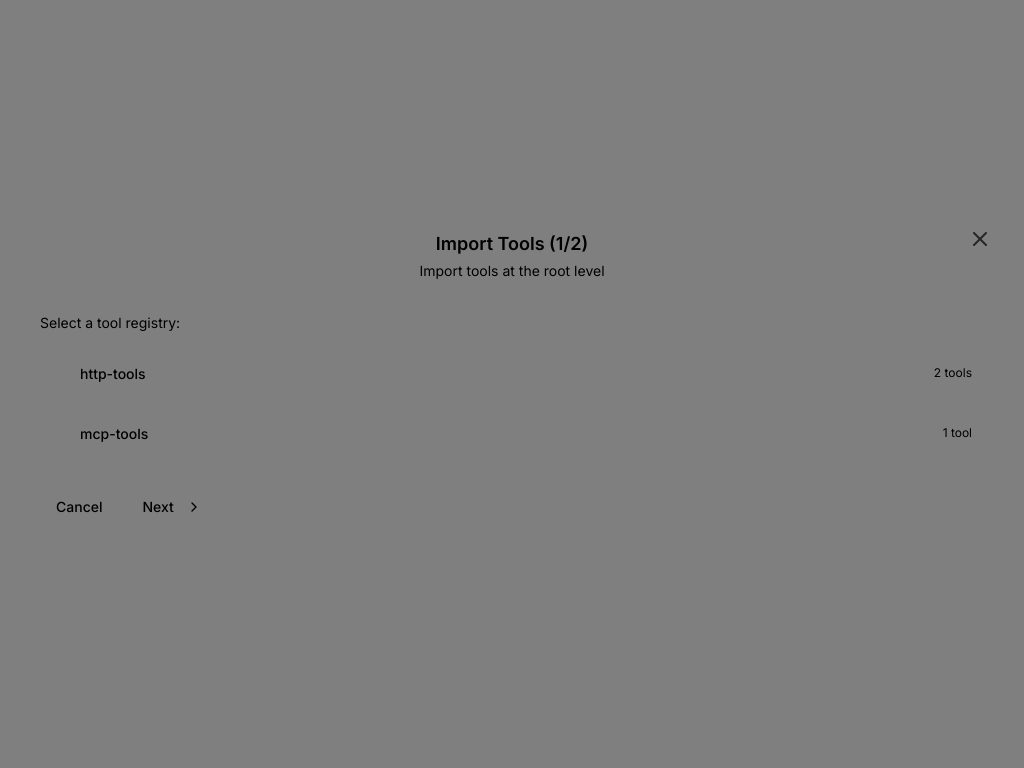
Scenario: ImportToolDialog › should show error on import failure
The width and height of the screenshot is (1024, 768).
Navigate to step 2
Step 1. Click the text "http-tools" → [113, 374], box [80,365,146,382]
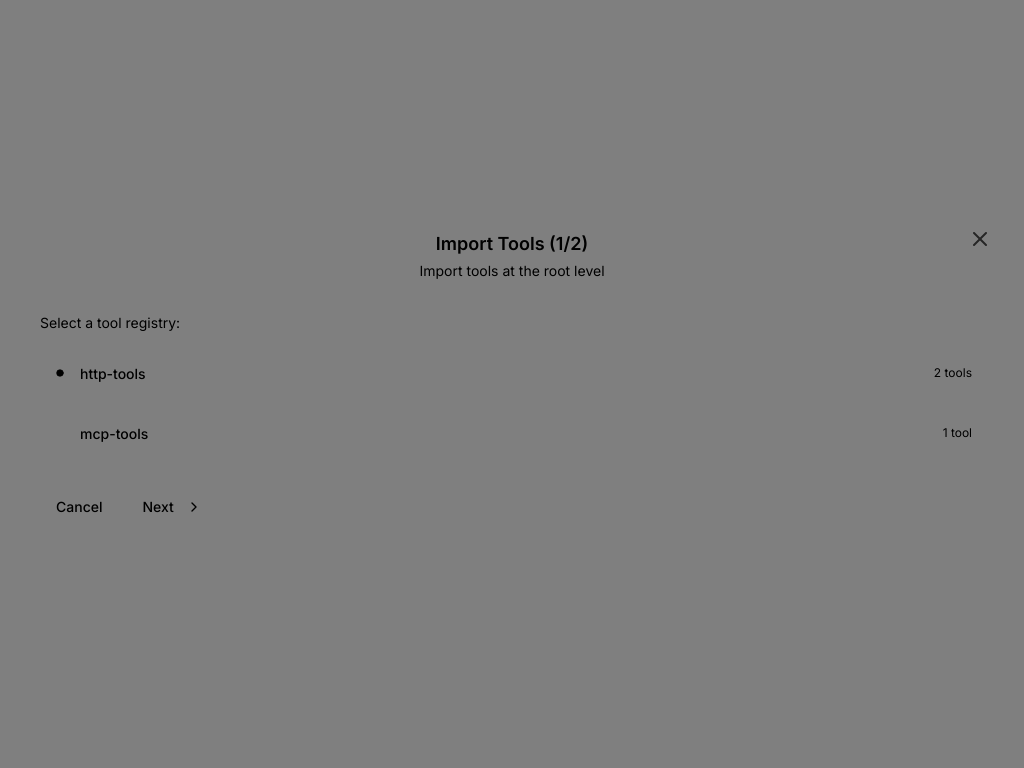
Step 2. Click the button "Next" → [172, 507], box [126,489,218,525]
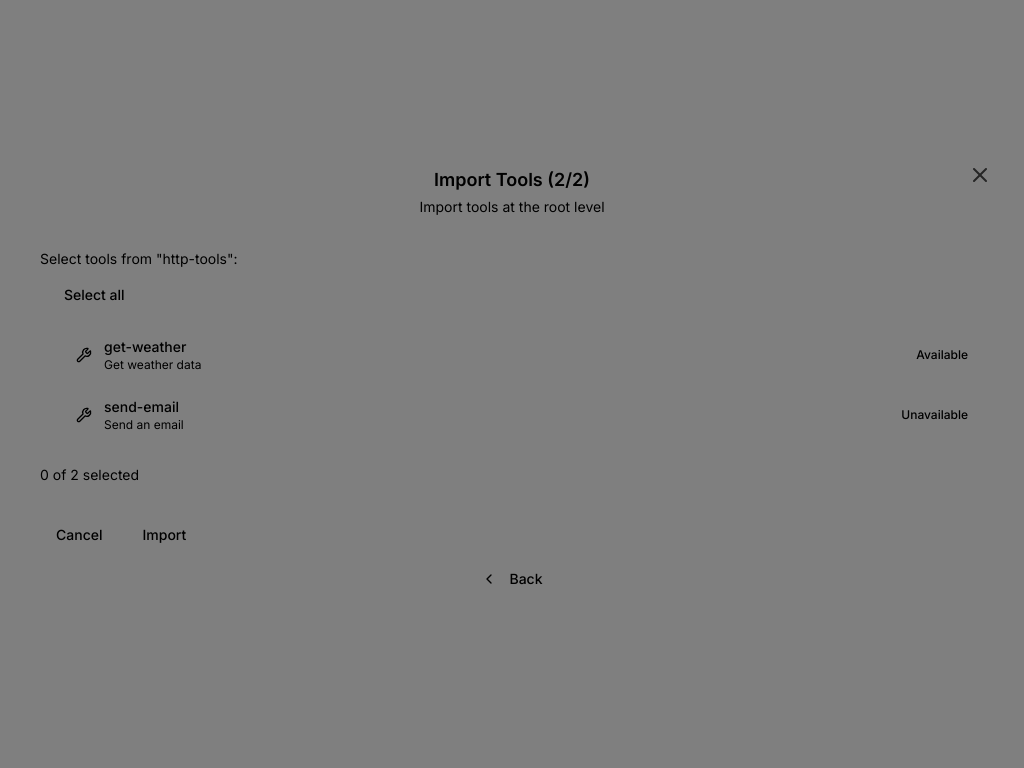
Select and import
Step 3. Click the text "get-weather" → [145, 346], box [104,338,186,355]
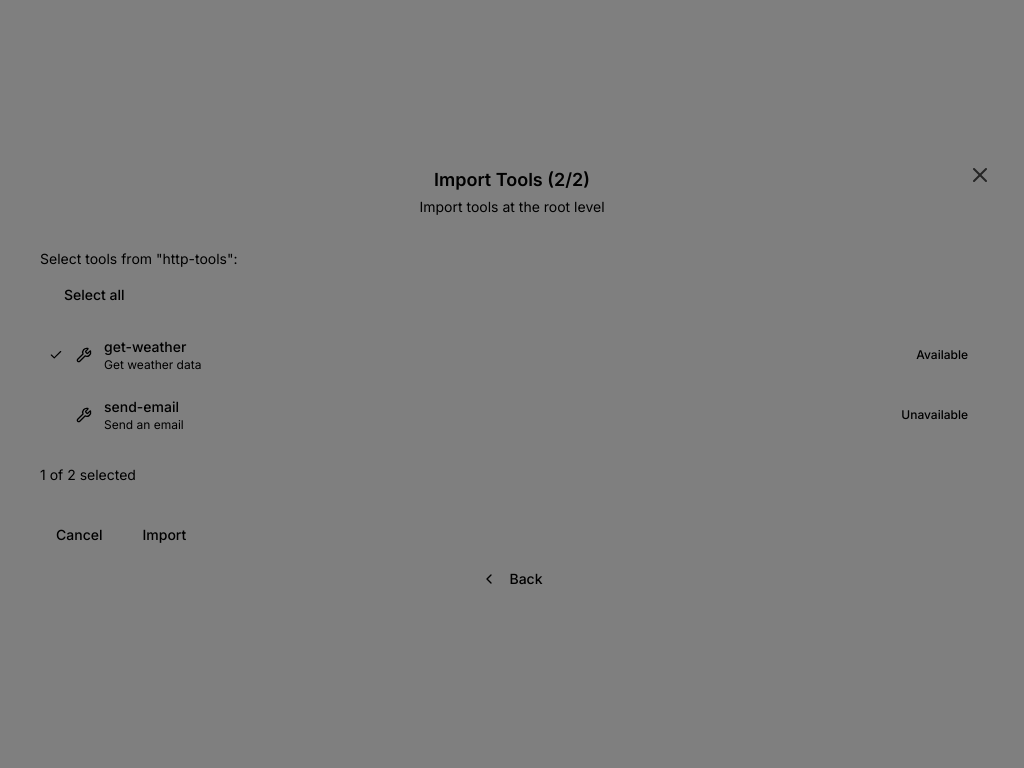
Step 4. Click the button "Import" → [164, 535], box [126,517,202,553]
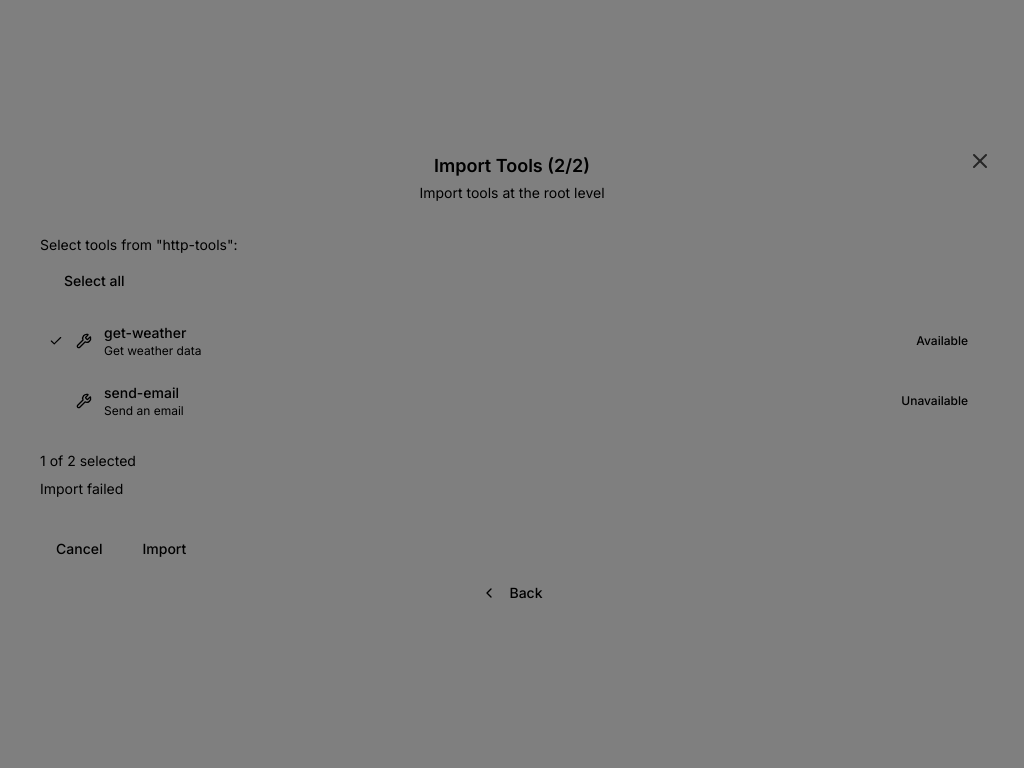
Check: the text "Import failed" is shown, box [40,480,123,497]
